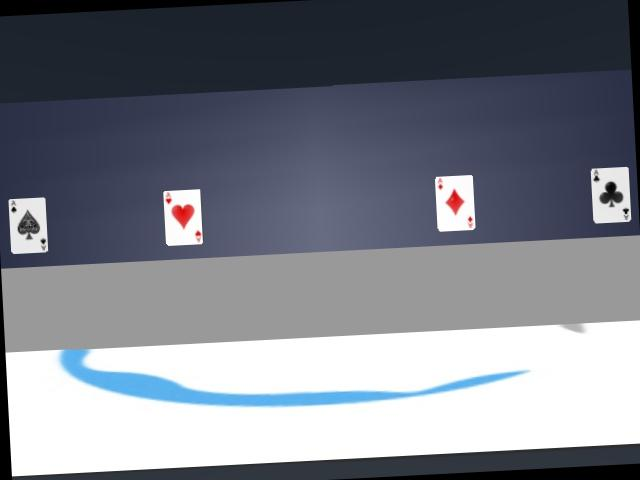club: (591, 167, 630, 223), (9, 197, 48, 253)
diamond: (435, 175, 477, 232)
heart: (163, 189, 203, 245)
